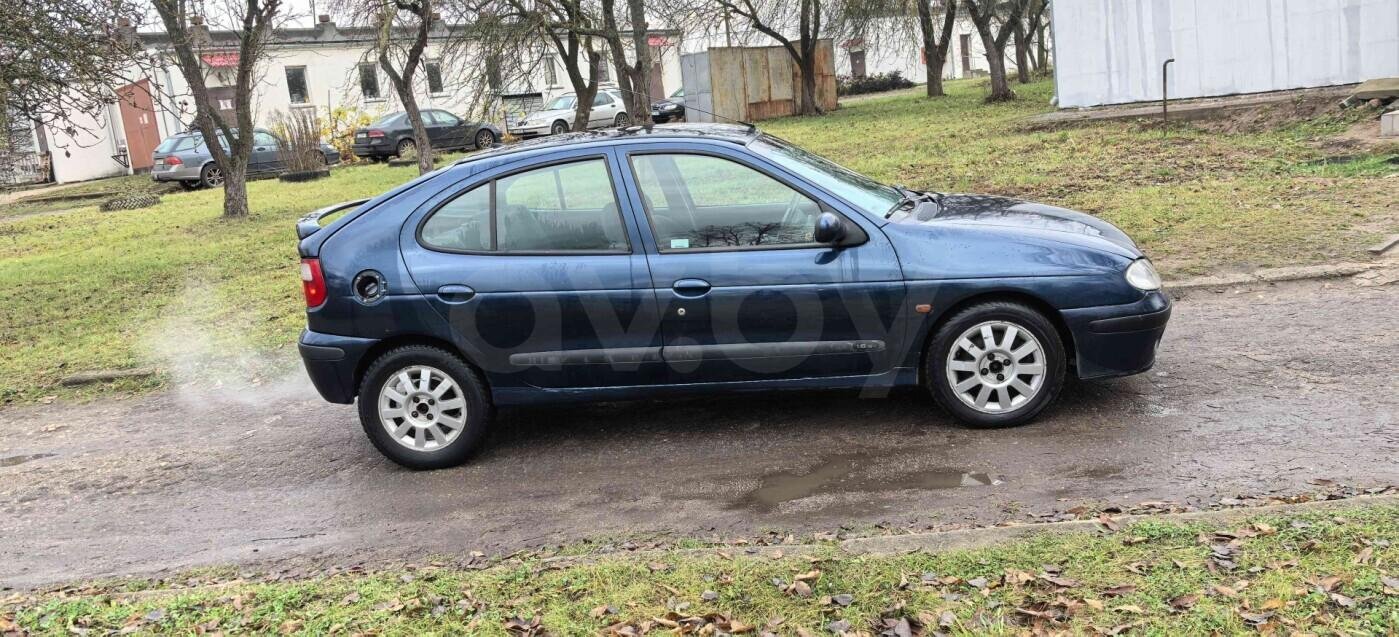Megane_1999-2003: (293, 116, 1167, 475)
